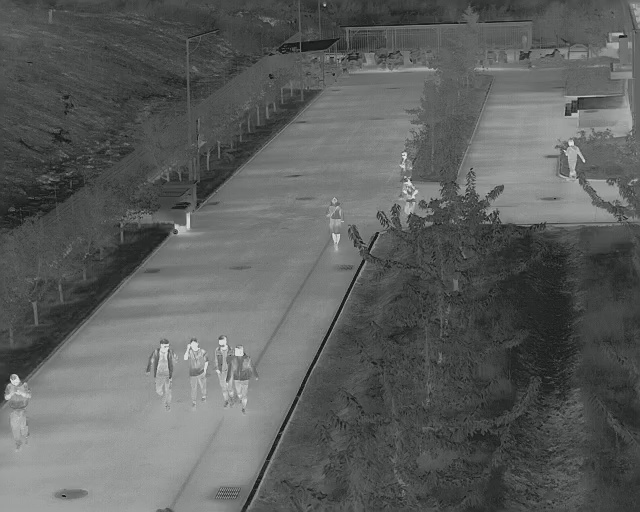person: (144, 336, 178, 411), (3, 373, 32, 451), (228, 345, 259, 415), (182, 338, 211, 412), (214, 334, 235, 409), (325, 196, 346, 251), (561, 137, 587, 180), (401, 180, 418, 213), (399, 150, 413, 183)
